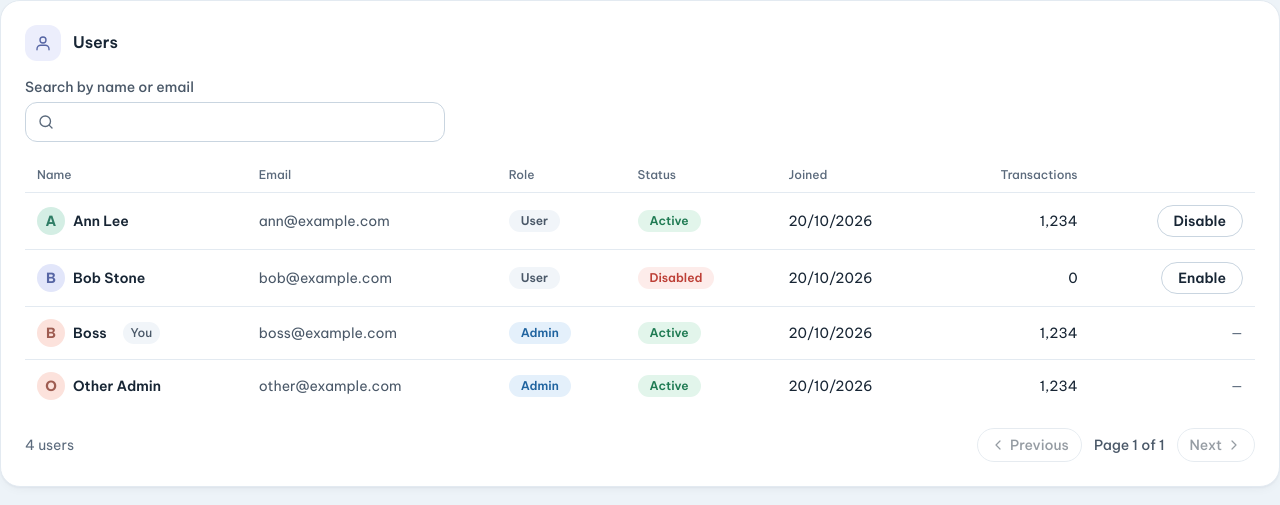
it: UsersTable › says so when nothing matches the search
Expected: the text "Ann Lee" is shown, [73,210,129,232]
In the search field labelled "Search by name or email": (235, 122) [25,102,445,142], type "zzz"
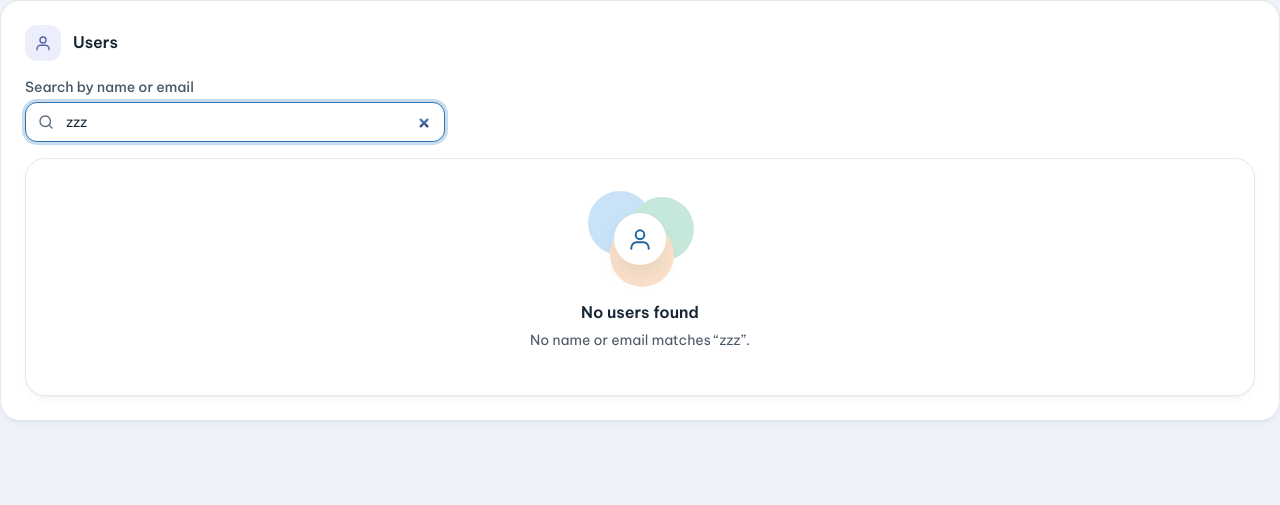
Expected: the heading "No users found" is shown, [581,303,699,322]
Expected: the text "No name or email matches “zzz”." is shown, [530,330,750,351]
